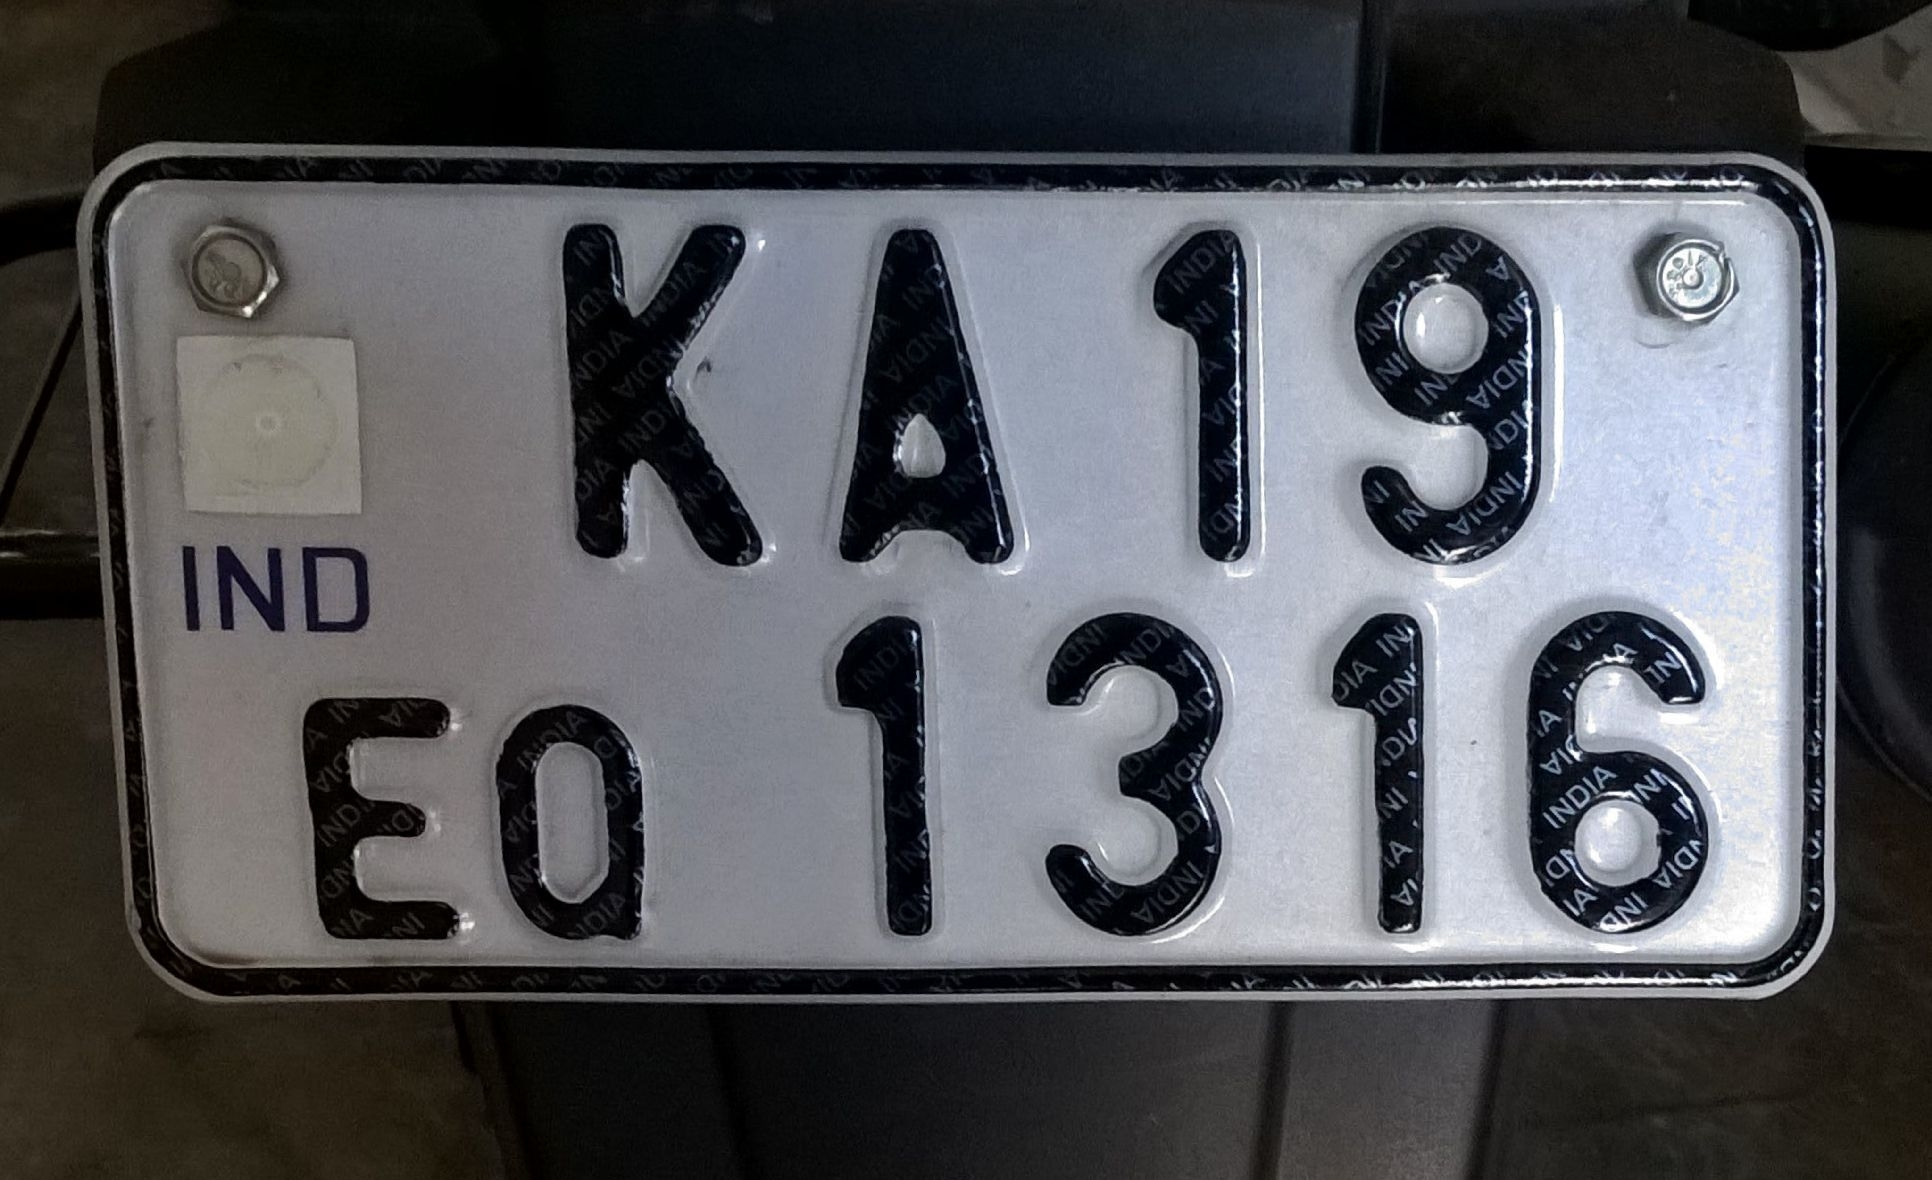doublelinenumberplate: (71, 122, 1844, 1009)
